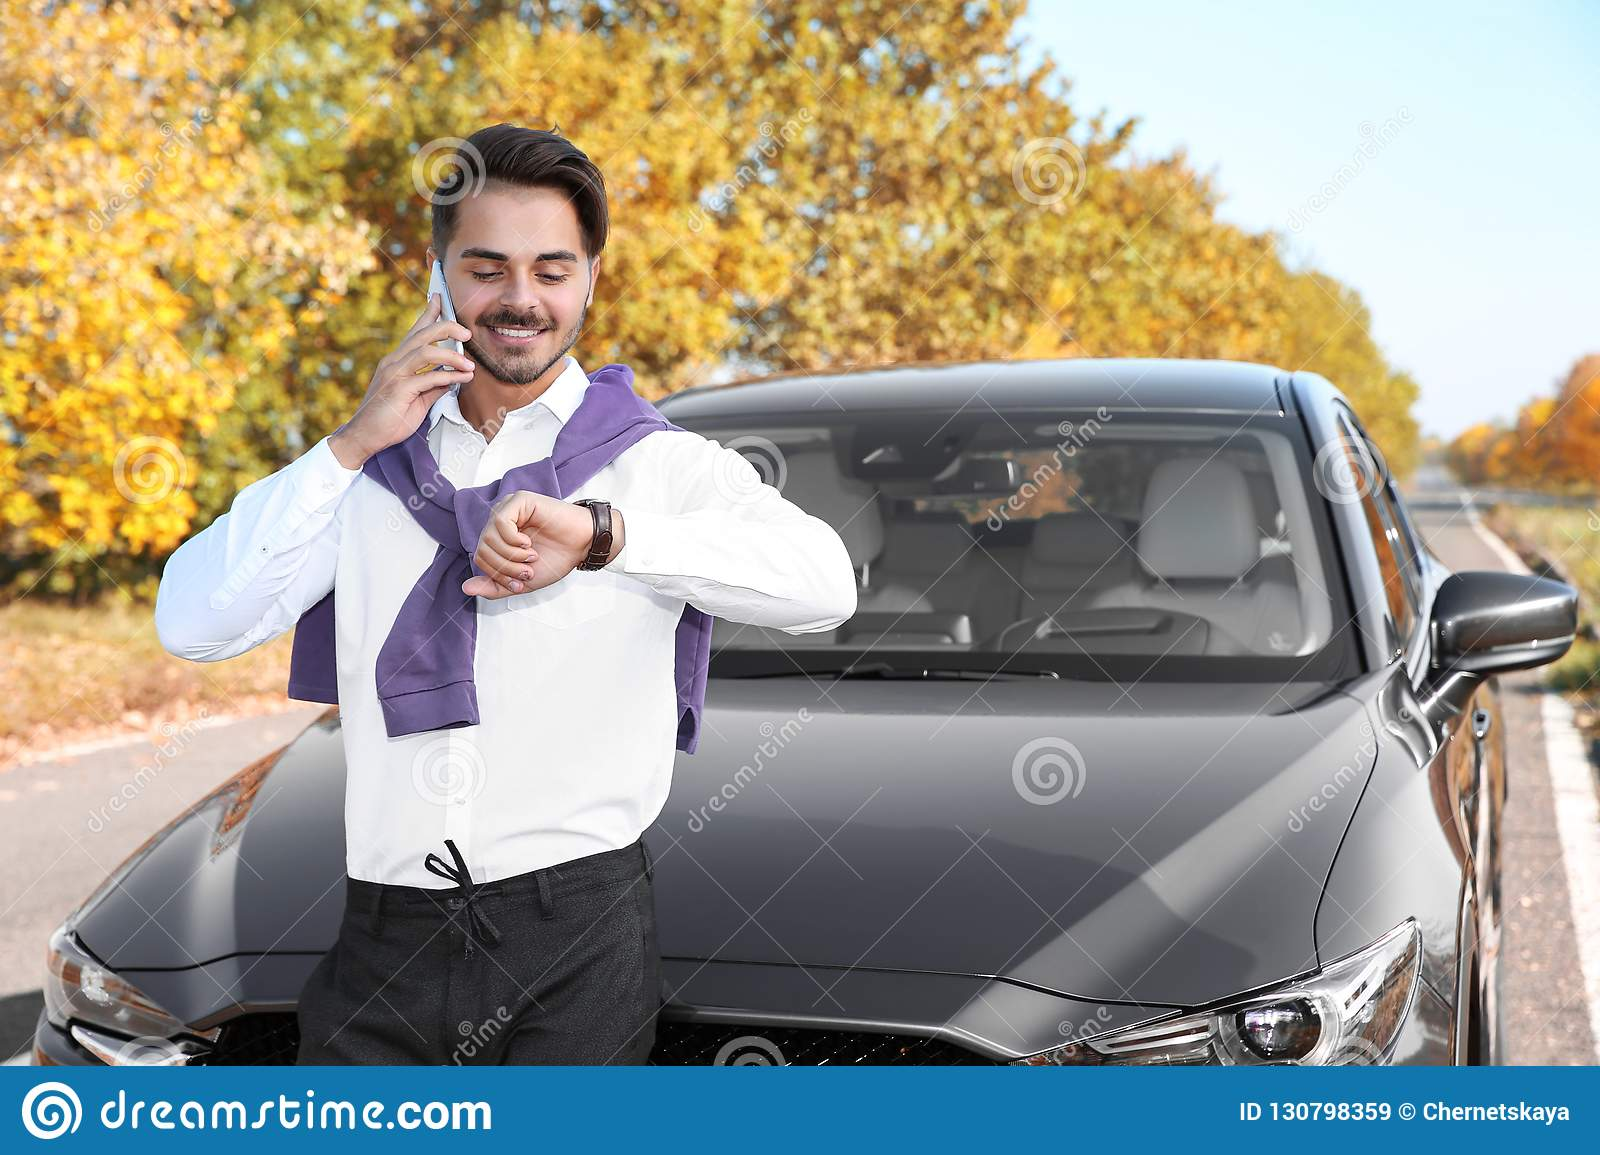phone: (425, 258, 465, 387)
talk: (366, 240, 585, 438)
